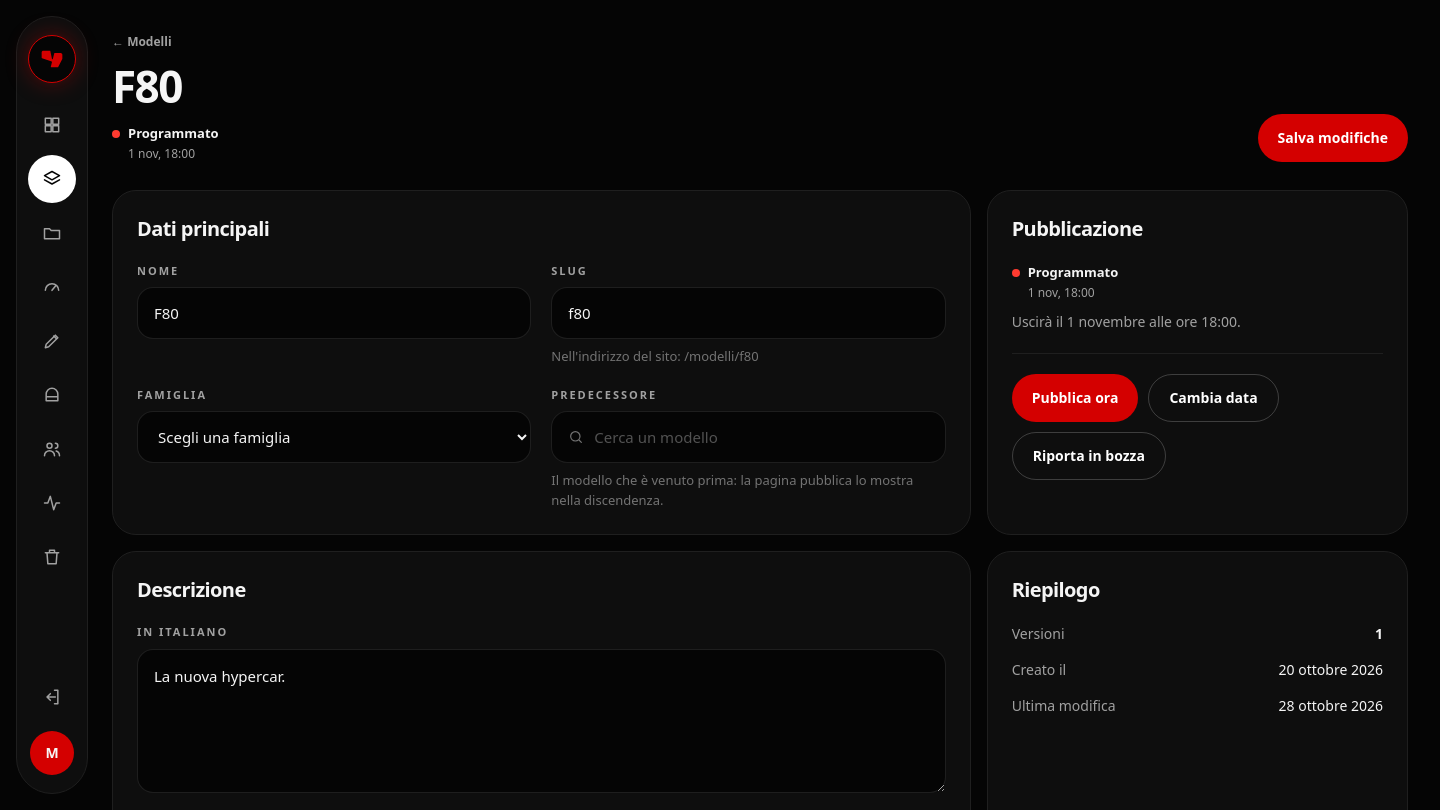
Scenario: pubblica subito un modello programmato, senza perdere la famiglia
This screenshot has width=1440, height=810.
Step 1. Click the button "Pubblica ora" → (1075, 398), box top-left (1012, 374), bottom-right (1138, 422)
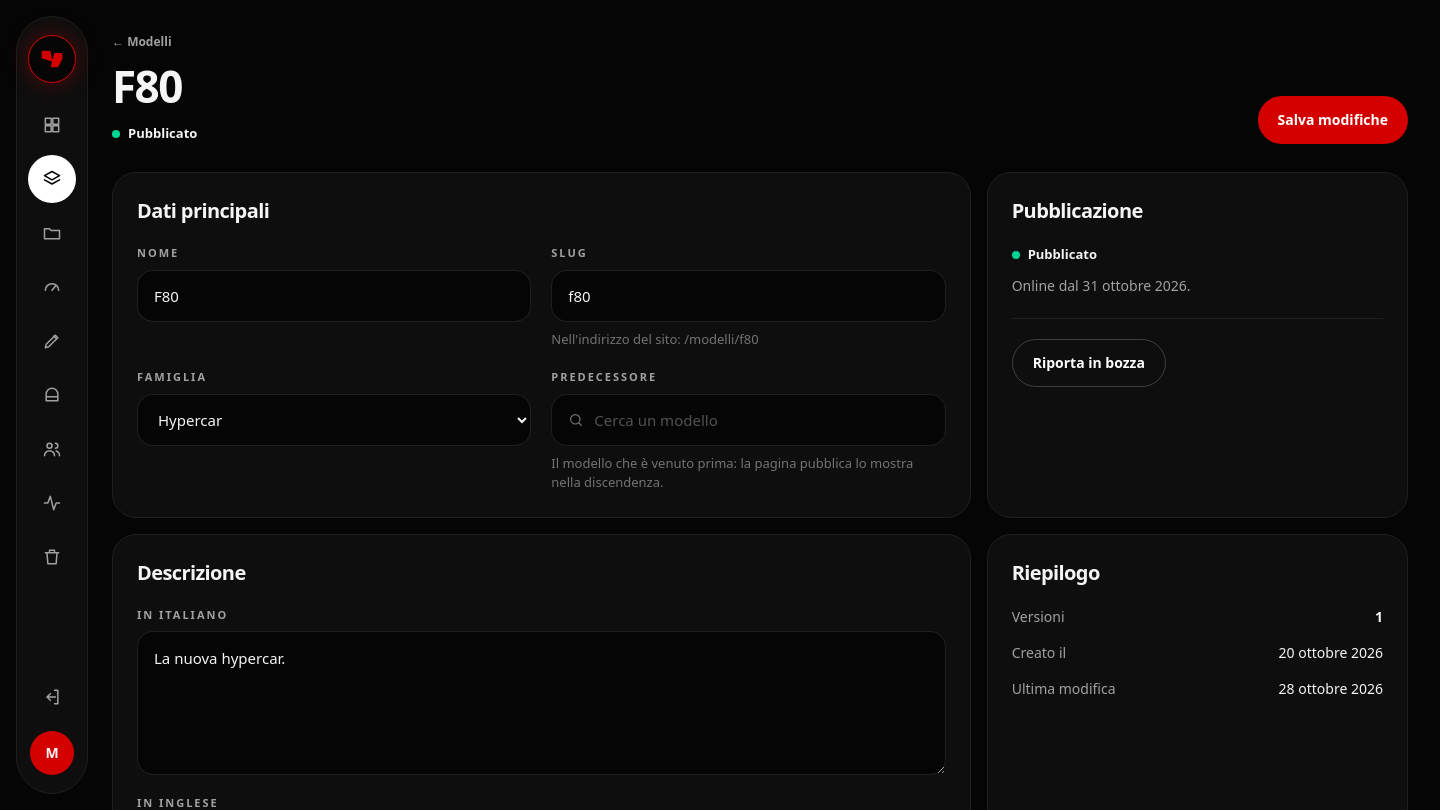
Check: the text "Online dal 31 ottobre 2026." is shown, box top-left (1012, 276), bottom-right (1191, 295)
Check: the dropdown labelled "Famiglia" shows "Hypercar", box top-left (137, 394), bottom-right (531, 446)
